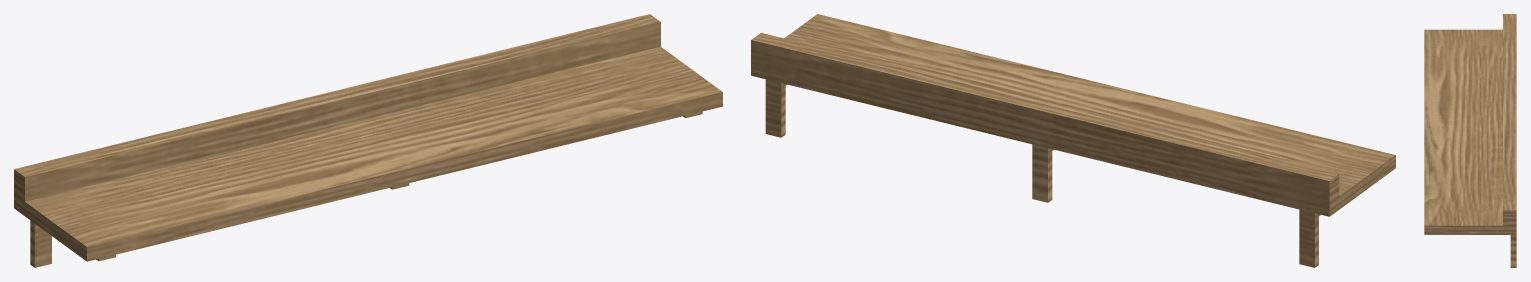
The model's file is WoodenShelfSmall.glb.
3 views of the same model, side by side, from view 1: azimuth 30°, elevation 25°; view 2: azimuth 150°, elevation 25°; view 3: azimuth 270°, elevation 25° (orthographic). The views are drawn at different scales.
Parts seen in each view (by area): view 1: Rack_01; view 2: Rack_01; view 3: Rack_01.
Boxes of the visible parts, <box> form: Rack_01: <box>14,14,722,267</box>; Rack_01: <box>751,14,1395,267</box>; Rack_01: <box>1424,14,1516,267</box>.
Bounding box in the file's own units: 2.38 × 0.3547 × 0.4717.
1 material, 1 textured.
